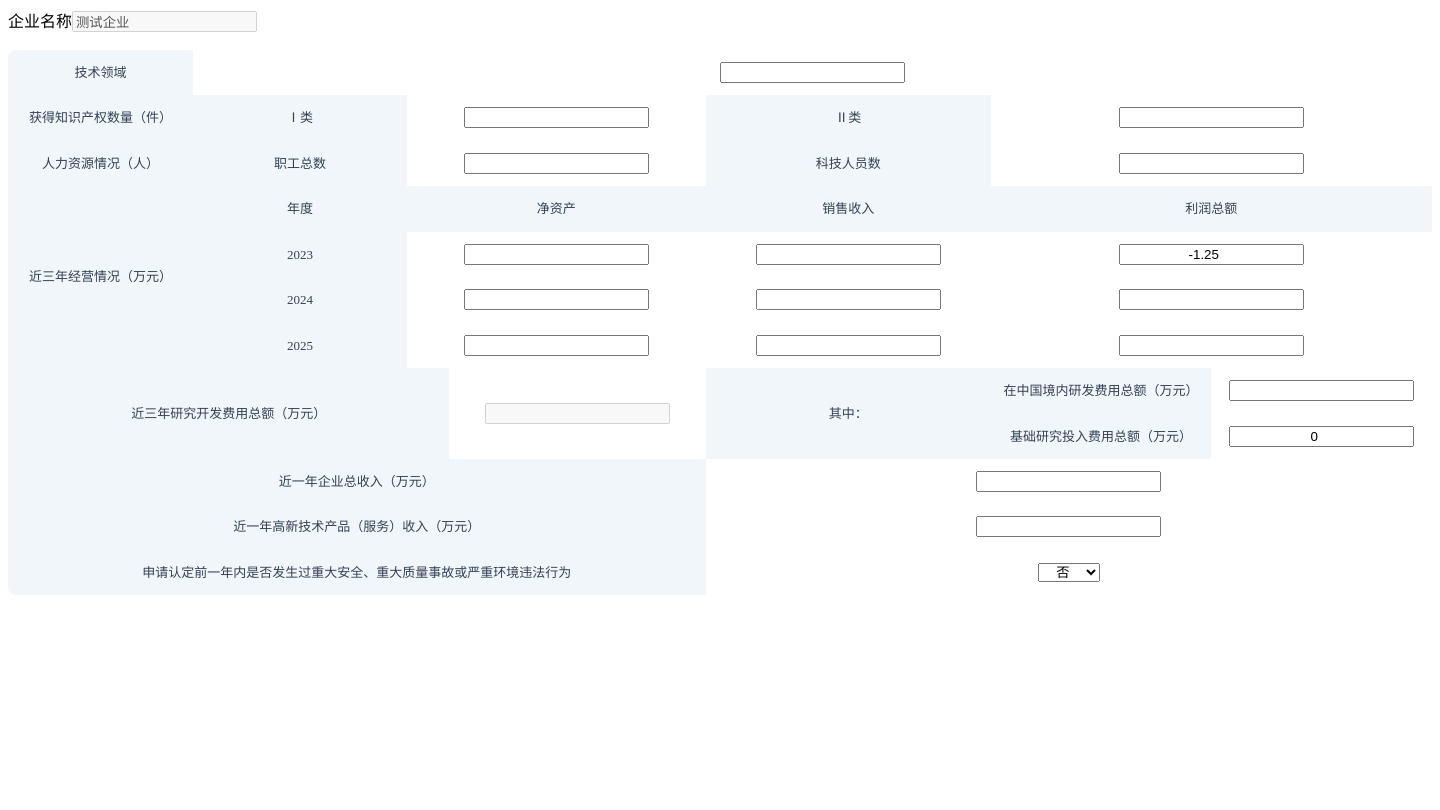
Test case: main situation table › keeps every field editable or readonly as configured, with grouped rows and dynamic years
expect the column heading "近三年经营情况（万元）" is shown: met, box x1=8 y1=186 x2=193 y2=368
expect the field labelled "企业名称" is disabled: met, box x1=72 y1=11 x2=257 y2=32
Replace the text in the number field named "2023年 利润总额（万元）" with "-2.50": (1211, 254) x1=1119 y1=244 x2=1304 y2=265
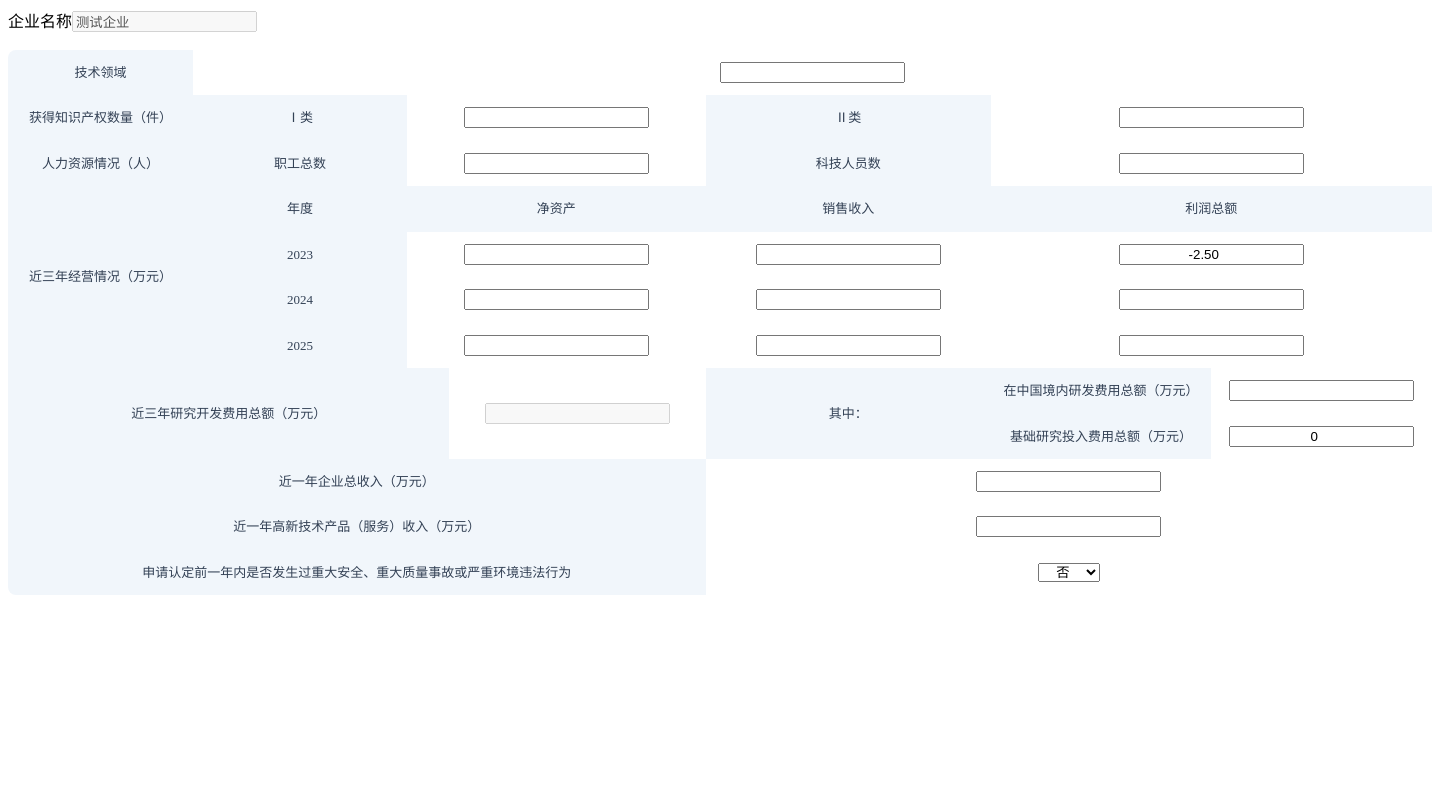
Select "是" in the dropdown named "重大安全、质量事故或严重环境违法行为": (1069, 572) x1=1038 y1=563 x2=1100 y2=582
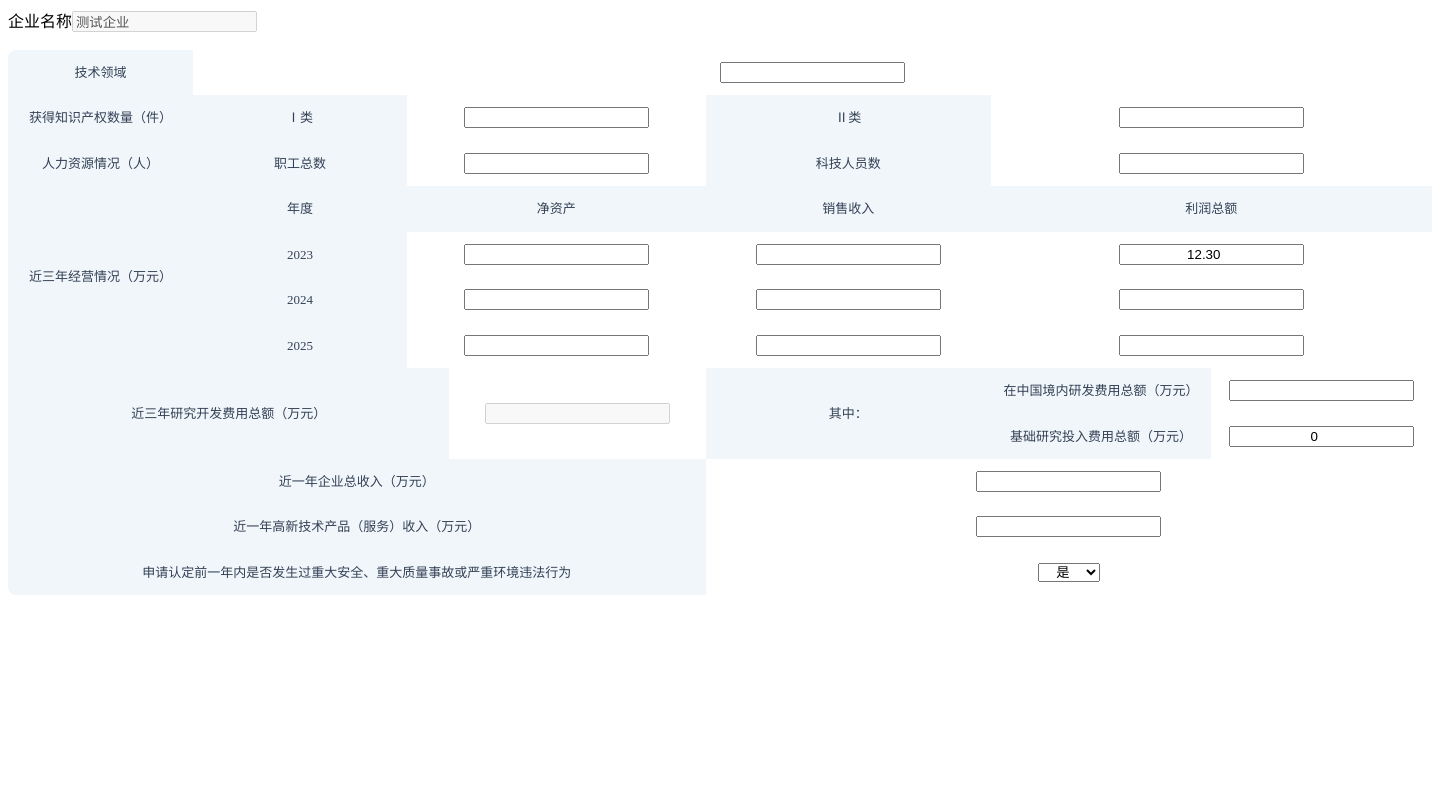
expect the number field named "基础研究费用（万元）" holds "0": met, box x1=1229 y1=426 x2=1414 y2=446
expect the number field named "2023年 利润总额（万元）" holds "12.30": met, box x1=1119 y1=244 x2=1304 y2=265
